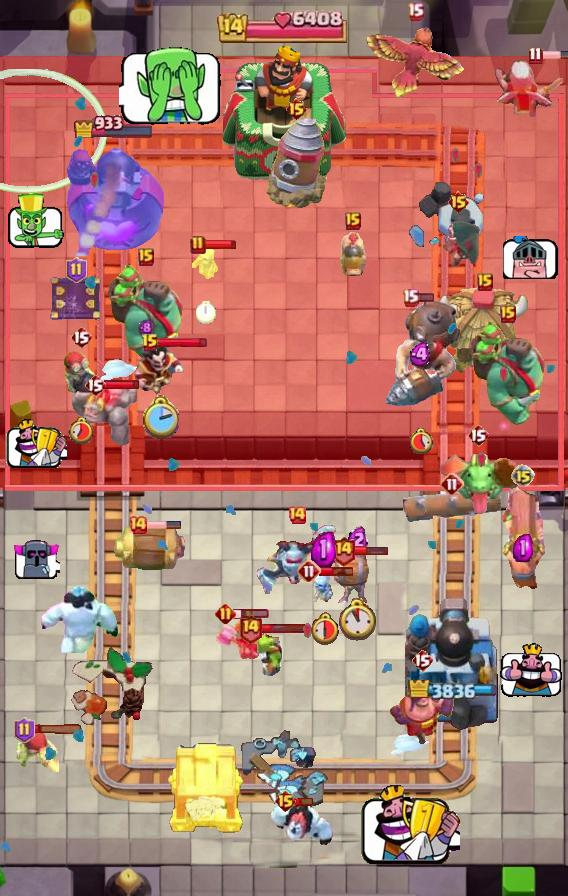battle-healer: (499, 477, 547, 591)
bomb: (166, 740, 246, 834)
clock: (217, 9, 351, 43)
electro-spirit: (312, 532, 337, 567), (348, 525, 369, 556), (513, 534, 533, 562), (409, 342, 433, 365), (138, 318, 154, 338)
electro-wizard: (437, 452, 519, 518)
elixir: (336, 598, 378, 641), (141, 395, 179, 439), (309, 611, 340, 645), (68, 416, 95, 444), (408, 426, 434, 453), (196, 300, 216, 323)
elixir-golem-small: (254, 522, 340, 600)
emote: (157, 335, 208, 348), (32, 724, 84, 735), (261, 623, 311, 634), (233, 608, 271, 620), (319, 565, 355, 577), (104, 378, 141, 389), (355, 544, 390, 555), (203, 238, 237, 249), (146, 520, 182, 530), (540, 50, 568, 60), (416, 292, 436, 303), (294, 796, 314, 807)
executioner: (338, 231, 368, 277)
golden-knight: (362, 23, 468, 101)
heal-spirit: (191, 249, 221, 281), (309, 571, 337, 603)
hog-rider: (214, 615, 262, 661)
ice-golem: (13, 730, 59, 772), (61, 350, 101, 398)
ice-spirit-evolution-symbol: (49, 273, 103, 323)
king-tower: (223, 43, 345, 181)
knight: (333, 555, 381, 603)
lava-hound: (104, 265, 188, 371), (466, 322, 550, 428)
lumberjack: (134, 343, 186, 397)
magic-archer: (266, 115, 326, 209)
minion: (403, 487, 501, 523)
monk: (389, 669, 455, 747)
poison: (482, 51, 568, 127)
prince: (438, 286, 532, 376)
rage: (39, 587, 119, 653), (267, 797, 337, 849)
selected: (73, 112, 155, 138), (408, 680, 498, 700)
skeleton: (119, 44, 222, 126), (360, 784, 460, 864), (6, 193, 66, 251), (500, 643, 562, 698), (5, 420, 66, 469), (503, 236, 559, 279), (12, 538, 59, 580)
tesla: (432, 218, 484, 270)
text: (332, 534, 357, 565), (238, 613, 263, 644), (511, 464, 535, 488), (440, 472, 464, 496), (297, 559, 321, 583), (285, 97, 308, 121), (446, 190, 469, 214), (274, 789, 297, 813), (66, 257, 87, 283), (14, 717, 35, 743), (70, 325, 92, 349), (84, 373, 106, 397), (467, 423, 489, 447), (411, 648, 433, 672), (215, 603, 236, 625), (287, 505, 307, 525), (128, 515, 148, 535), (141, 333, 159, 353), (401, 288, 419, 307), (190, 235, 206, 255), (407, 3, 424, 21), (345, 212, 361, 230), (138, 248, 154, 266), (477, 273, 493, 291), (500, 305, 516, 323), (529, 47, 543, 65)
the-log: (113, 524, 189, 574)
tower-bar: (405, 595, 501, 731), (63, 138, 164, 256)
valkyrie-evolution: (72, 382, 142, 448)
wizard: (381, 297, 461, 407)
zap: (249, 629, 285, 679)
